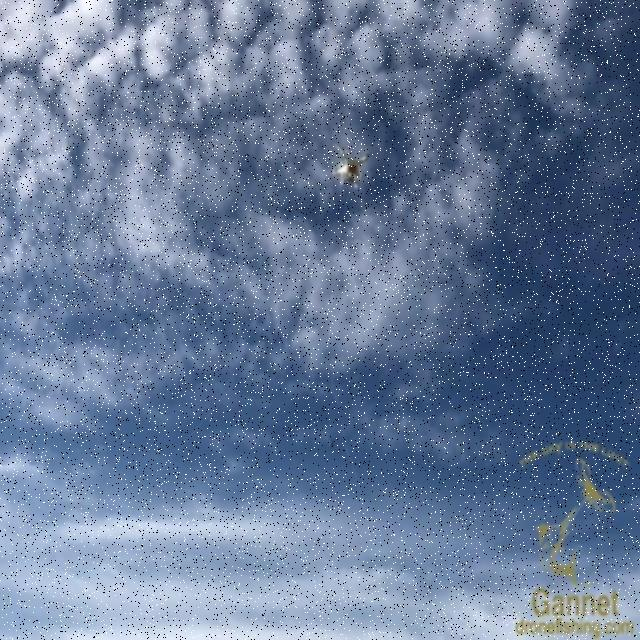UAV: (331, 144, 372, 188)
